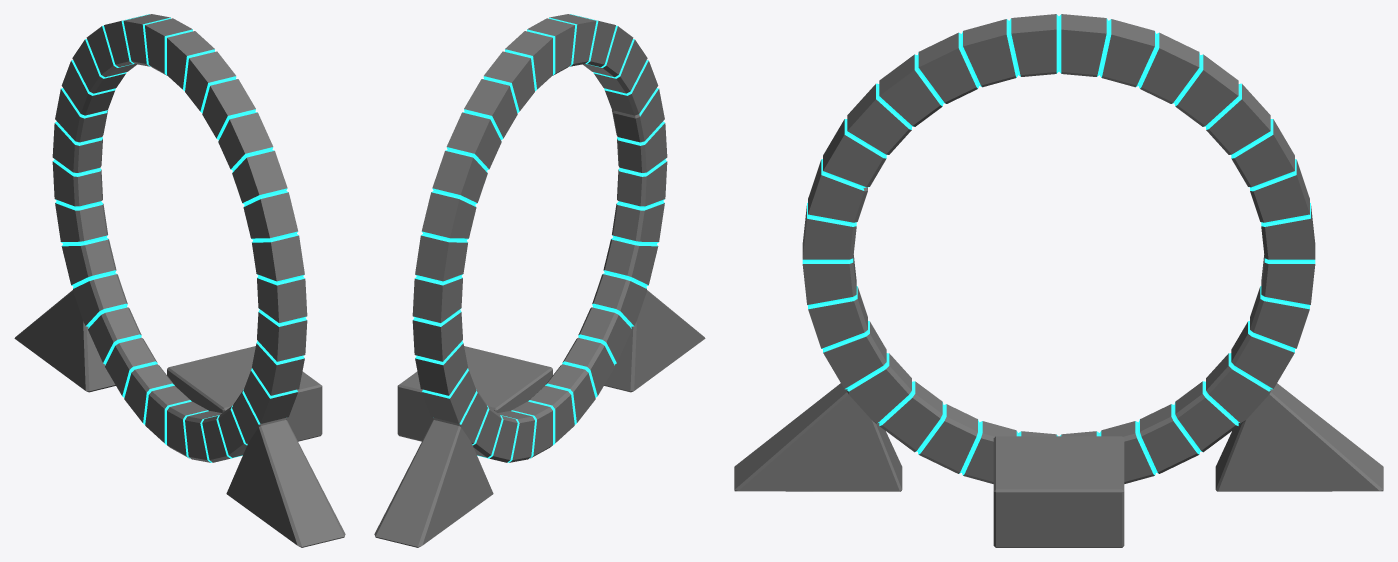
Rendered from Portal.glb.
3 renders of one model, left to right at view 1: azimuth 30°, elevation 25°; view 2: azimuth 150°, elevation 25°; view 3: azimuth 270°, elevation 25°, orthographic. The views are drawn at different scales.
Visible parts, largest first — view 1: Portal_mesh; view 2: Portal_mesh; view 3: Portal_mesh.
Boxes of the visible parts, x1,y1,x2,y2 form: Portal_mesh: (14,14,345,547); Portal_mesh: (374,14,705,547); Portal_mesh: (734,14,1383,547).
Size of what is drawn, in the model's own units: 10.66 by 30.21 by 38.26.
